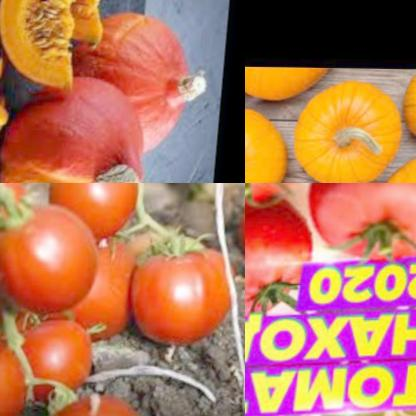pumpkin: (64, 0, 207, 147), (0, 74, 161, 183), (291, 72, 410, 183), (0, 0, 96, 93), (26, 0, 119, 49), (245, 102, 297, 183), (245, 65, 338, 106), (0, 52, 22, 144)
tomato: (131, 229, 245, 345), (0, 199, 105, 306), (245, 197, 319, 323), (312, 183, 416, 264), (72, 228, 143, 343), (23, 311, 103, 403), (44, 183, 139, 232), (0, 316, 36, 416), (51, 385, 161, 416), (245, 183, 302, 209), (0, 183, 39, 215)
